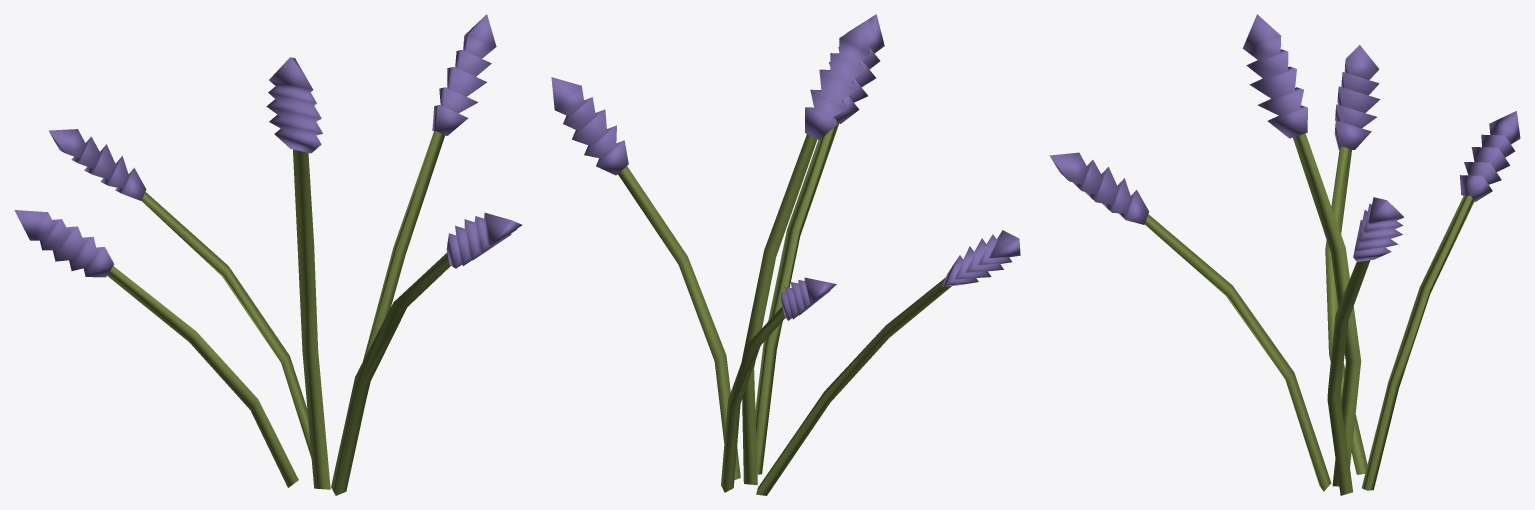
Rendered from rpgpp_ag_flower_03a 1.fbx.
The picture shows the model from 3 angles, left to right: view 1: azimuth 30°, elevation 25°; view 2: azimuth 150°, elevation 25°; view 3: azimuth 270°, elevation 25°; orthographic projection. The views are drawn at different scales.
Visible parts, largest first — view 1: rpgpp_ag_flower_03a; view 2: rpgpp_ag_flower_03a; view 3: rpgpp_ag_flower_03a.
Part boxes in pixels (box(x1,y1,x2,y2)): rpgpp_ag_flower_03a: box(14, 14, 522, 495); rpgpp_ag_flower_03a: box(551, 14, 1020, 495); rpgpp_ag_flower_03a: box(1049, 14, 1520, 495).
Size of the model in its own units: 1.43 by 1.36 by 1.32.
